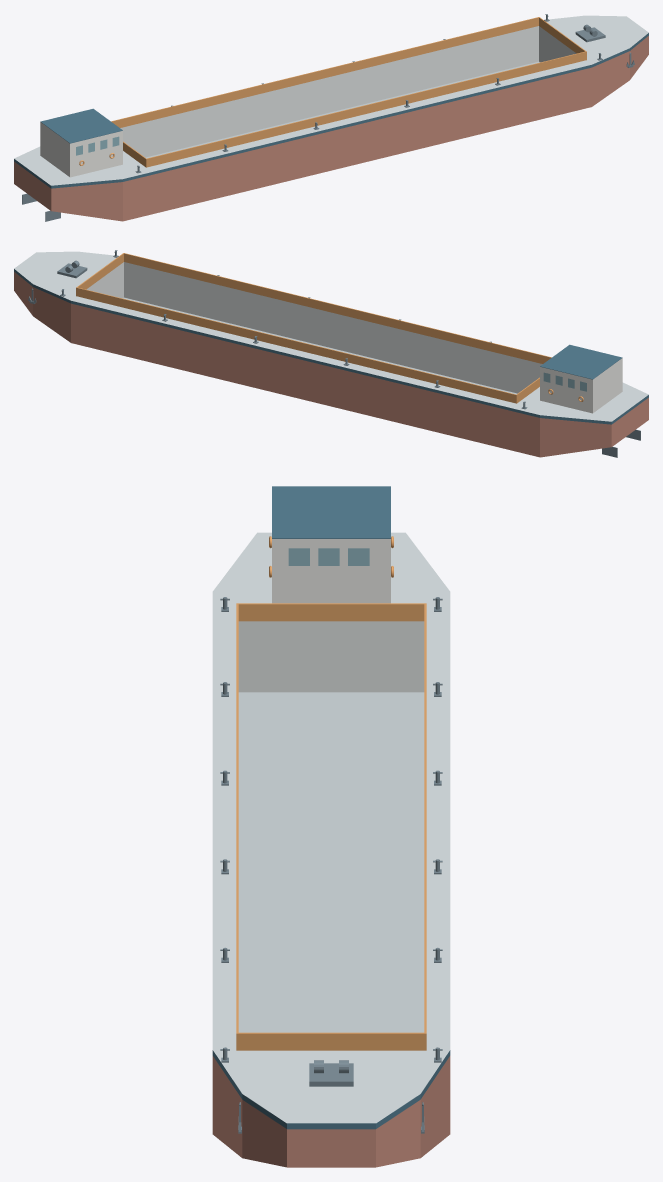
3 views of the same model, one above another, from view 1: azimuth 30°, elevation 25°; view 2: azimuth 150°, elevation 25°; view 3: azimuth 270°, elevation 25° (orthographic). The views are drawn at different scales.
Parts seen in each view (by area): view 1: Than_tau_duoi_duong_nuoc, Vach_trong_ham_hang_uoc_tinh, Thanh_quay_ham_uoc_tinh, Boong_co_lo_ham_hang, Cabin_uoc_tinh, Than_tau_tren_duong_nuoc, Mai_cabin, San_ham_hang_uoc_tinh, Cum_toi_neo_mui_minh_hoa; view 2: Than_tau_duoi_duong_nuoc, Vach_trong_ham_hang_uoc_tinh, Thanh_quay_ham_uoc_tinh, Boong_co_lo_ham_hang, Cabin_uoc_tinh, Than_tau_tren_duong_nuoc, Mai_cabin, San_ham_hang_uoc_tinh, Cum_toi_neo_mui_minh_hoa; view 3: San_ham_hang_uoc_tinh, Boong_co_lo_ham_hang, Vach_trong_ham_hang_uoc_tinh, Than_tau_duoi_duong_nuoc, Thanh_quay_ham_uoc_tinh, Cabin_uoc_tinh, Mai_cabin, Than_tau_tren_duong_nuoc, Cua_kinh_cabin, Cum_toi_neo_mui_minh_hoa.
Boxes of the visible parts, box(x1,y1,x2,y2) form: Than_tau_duoi_duong_nuoc: box(14, 36, 648, 221); Vach_trong_ham_hang_uoc_tinh: box(120, 26, 576, 157); Thanh_quay_ham_uoc_tinh: box(111, 17, 586, 167); Boong_co_lo_ham_hang: box(14, 15, 648, 185); Cabin_uoc_tinh: box(40, 122, 122, 177); Than_tau_tren_duong_nuoc: box(14, 33, 648, 188); Mai_cabin: box(40, 108, 122, 143); San_ham_hang_uoc_tinh: box(145, 61, 539, 158); Cum_toi_neo_mui_minh_hoa: box(575, 24, 605, 42); Than_tau_duoi_duong_nuoc: box(14, 272, 648, 457); Vach_trong_ham_hang_uoc_tinh: box(86, 262, 542, 393); Thanh_quay_ham_uoc_tinh: box(76, 253, 551, 403); Boong_co_lo_ham_hang: box(14, 251, 648, 421); Cabin_uoc_tinh: box(540, 358, 622, 413); Than_tau_tren_duong_nuoc: box(14, 269, 648, 424); Mai_cabin: box(540, 344, 622, 379); San_ham_hang_uoc_tinh: box(123, 297, 517, 394); Cum_toi_neo_mui_minh_hoa: box(57, 260, 87, 278); San_ham_hang_uoc_tinh: box(238, 692, 424, 1032); Boong_co_lo_ham_hang: box(212, 532, 450, 1123); Vach_trong_ham_hang_uoc_tinh: box(238, 621, 424, 692); Than_tau_duoi_duong_nuoc: box(212, 1056, 450, 1167); Thanh_quay_ham_uoc_tinh: box(236, 603, 426, 1050); Cabin_uoc_tinh: box(272, 539, 390, 603); Mai_cabin: box(272, 486, 390, 538); Than_tau_tren_duong_nuoc: box(212, 1050, 450, 1129); Cua_kinh_cabin: box(288, 548, 369, 565); Cum_toi_neo_mui_minh_hoa: box(309, 1060, 353, 1086).
Size of the model in its own units: 77.8 by 9.4 by 13.24.
